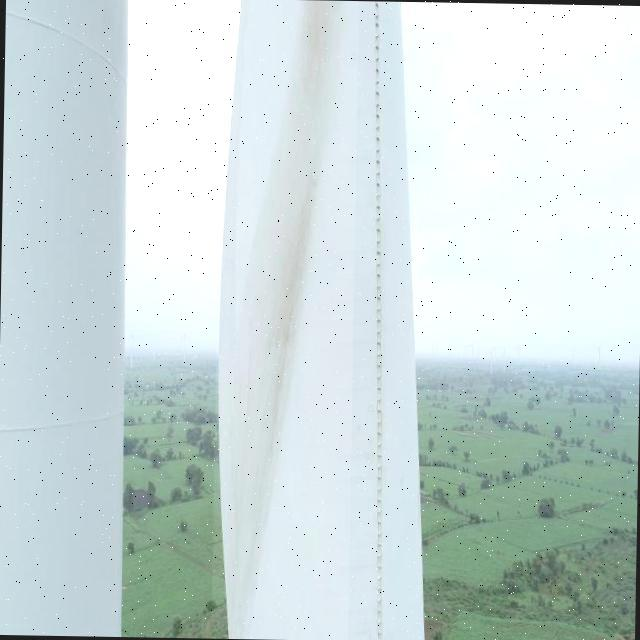Dirt: (221, 0, 343, 632)
